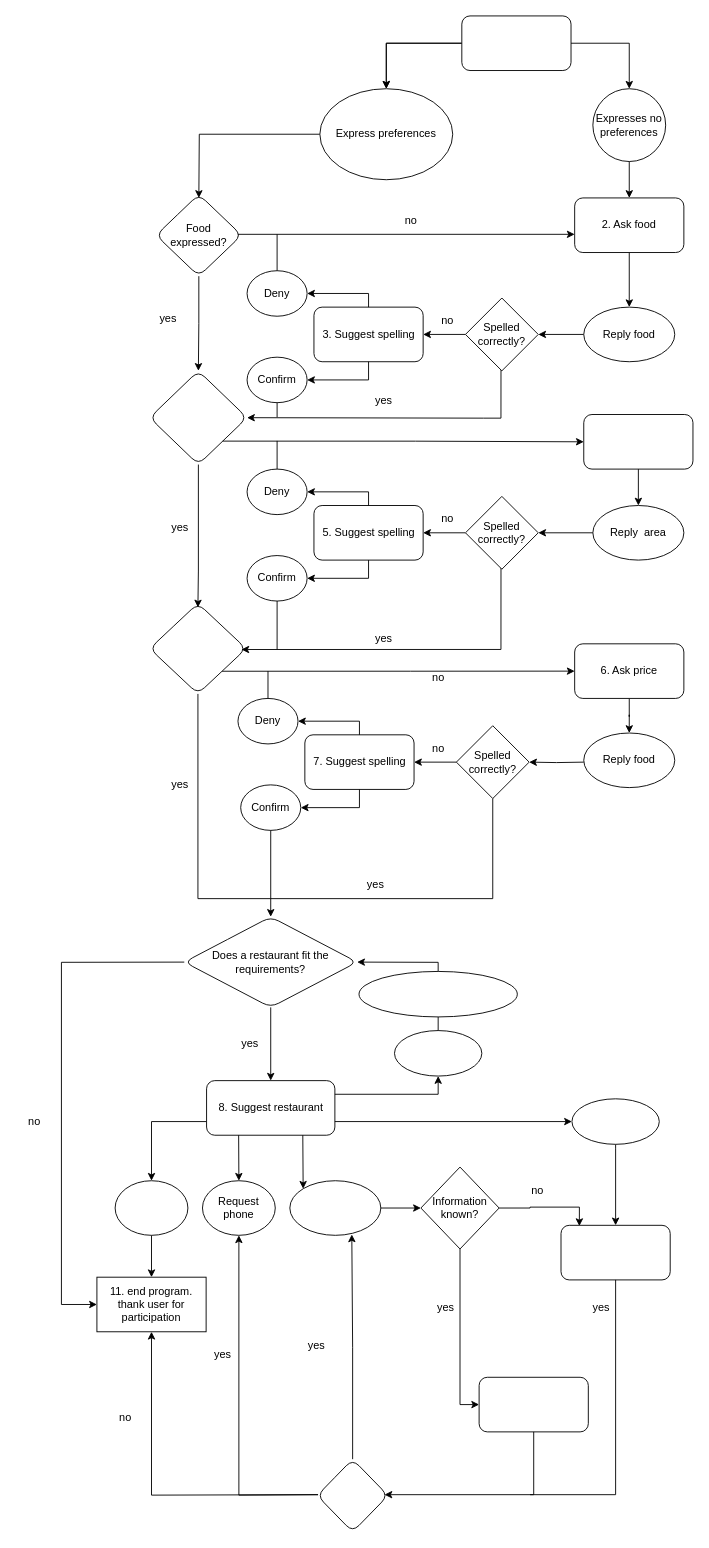
Image size: 709x1548. Some labels were removed from this diagram. Each missing label, with the centre of its shape:
"1. Welcome" goes at pixel 516 43.
"10. Apologies; ask if they what to know something else." goes at pixel 615 1252.
"4. Ask area" goes at pixel 638 441.
"9. Give information ask if they want to know something else." goes at pixel 533 1404.
"Area expressed?" goes at pixel 198 417.
"Denies suggestion" goes at pixel 438 1053.
"More info asked?" goes at pixel 352 1495.
"Other dialog act" goes at pixel 615 1121.
"Price expressed?" goes at pixel 197 648.
"Request address" goes at pixel 335 1207.
"Thanks" goes at pixel 151 1207.
"Update list of possible suggestions" goes at pixel 437 994.
